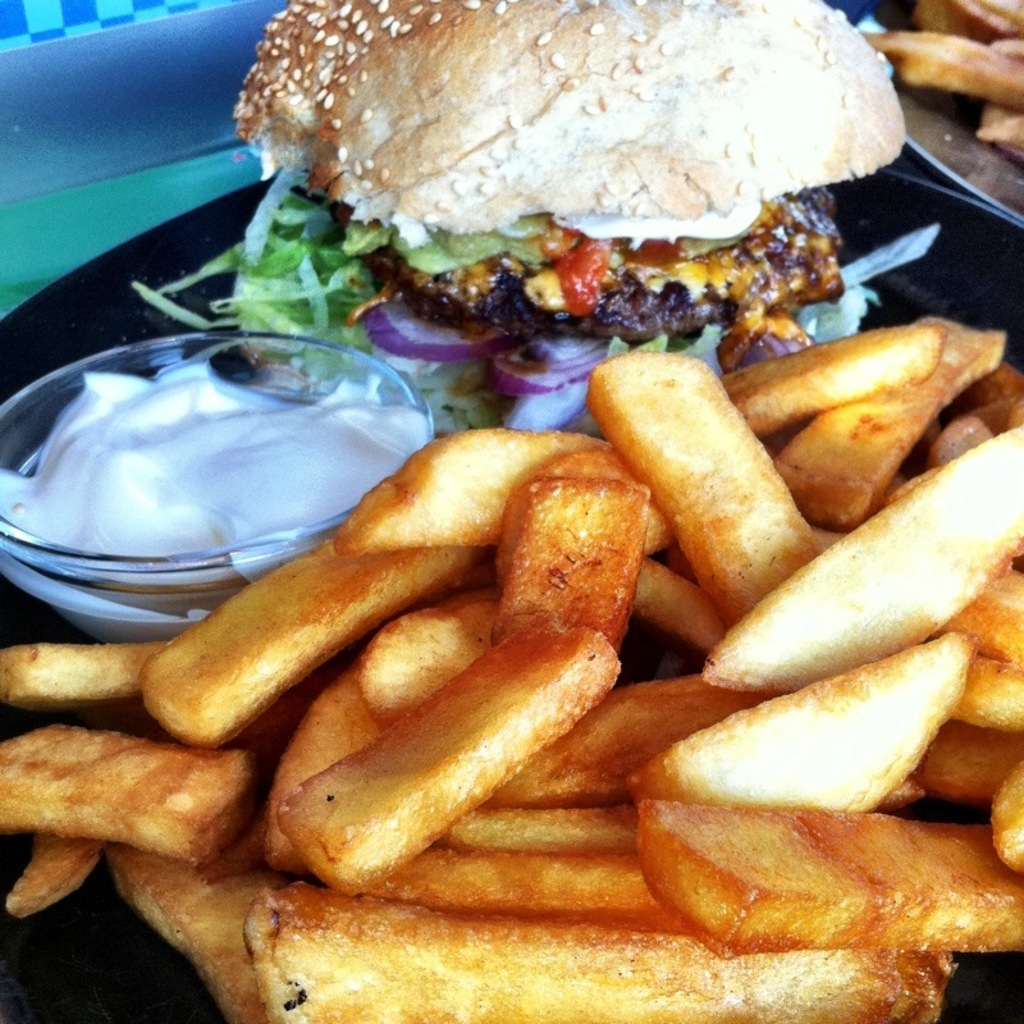French fries: (101, 363, 759, 913)
